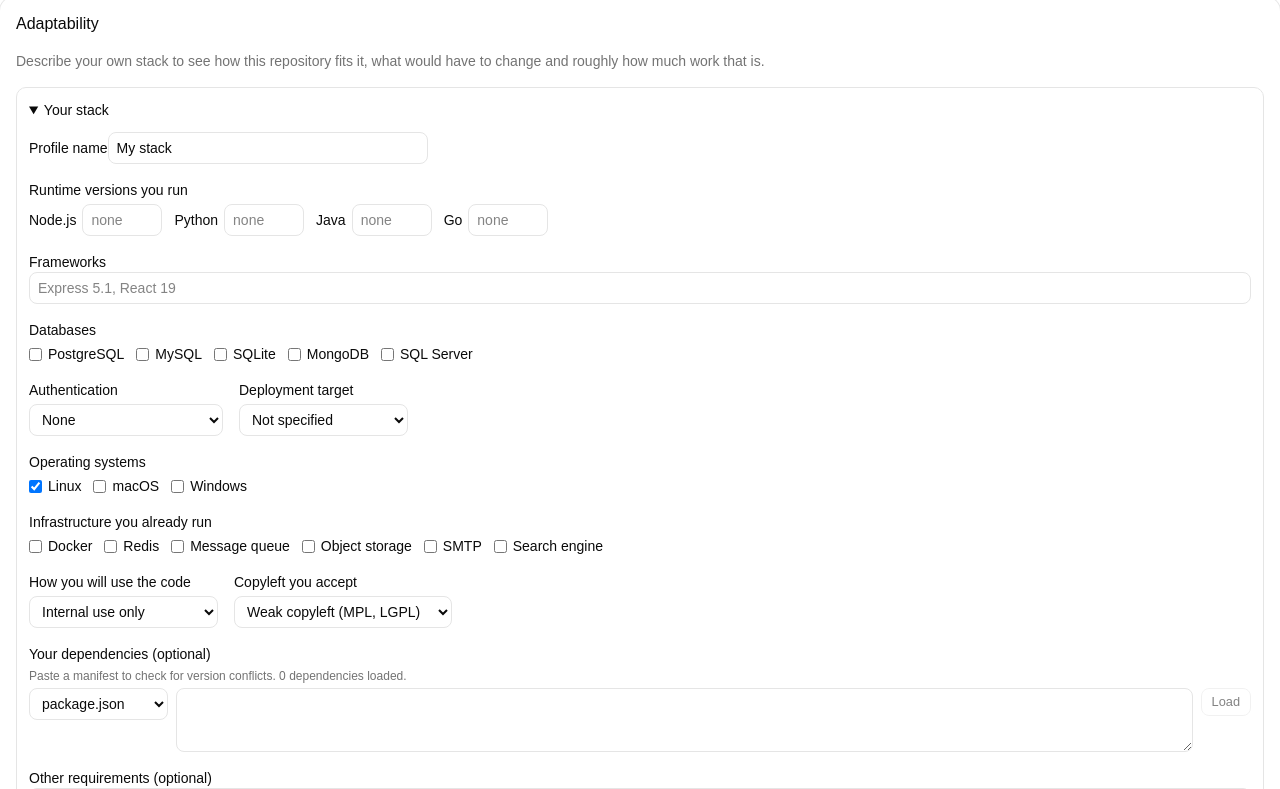
Scenario: Adaptability panel › shows what is wrong with the stack instead of sending it
Type "latest" into the field labelled "Python".
click(264, 220); type("latest")  # box [224,204,304,236]
(page scrolled)
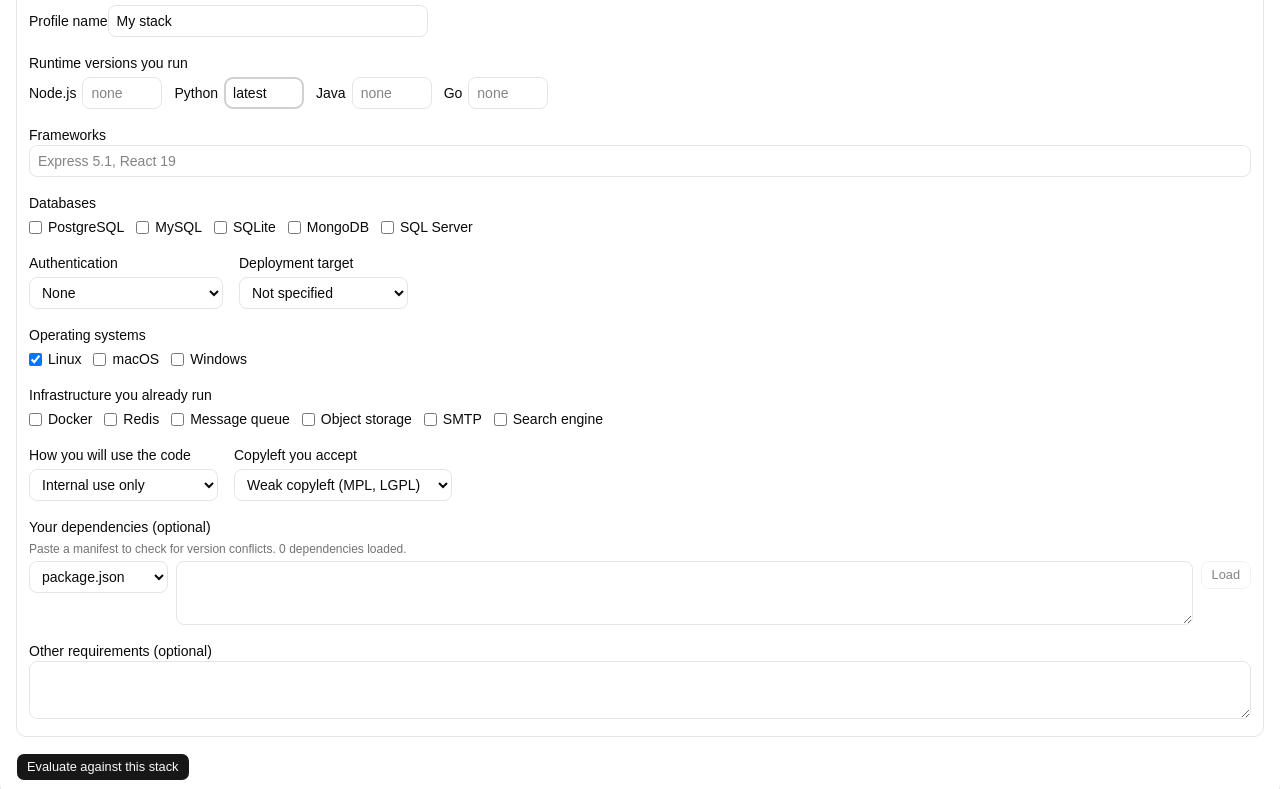
Click the button "Evaluate against this stack".
click(103, 767)  # box [16,753,190,781]
(page scrolled)
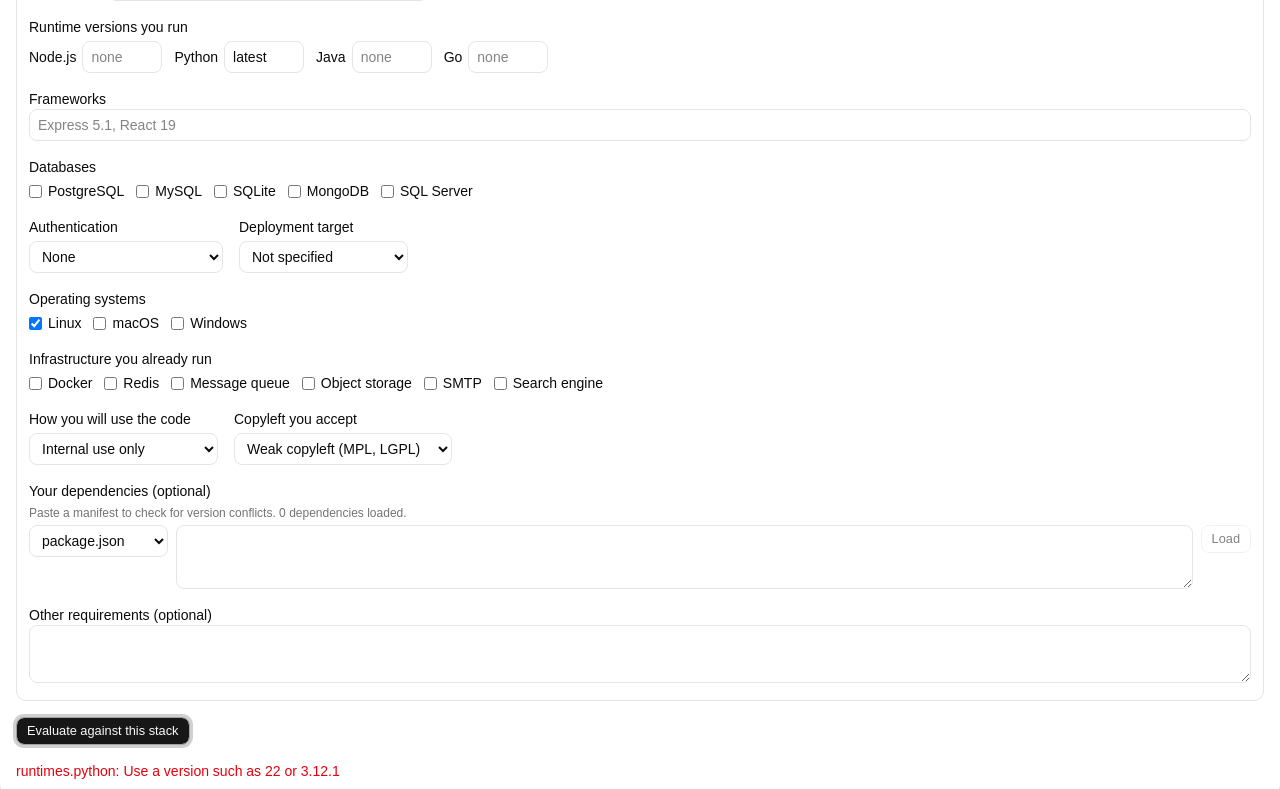
Check: the message shows "runtimes.python", box [16,763,340,779]
